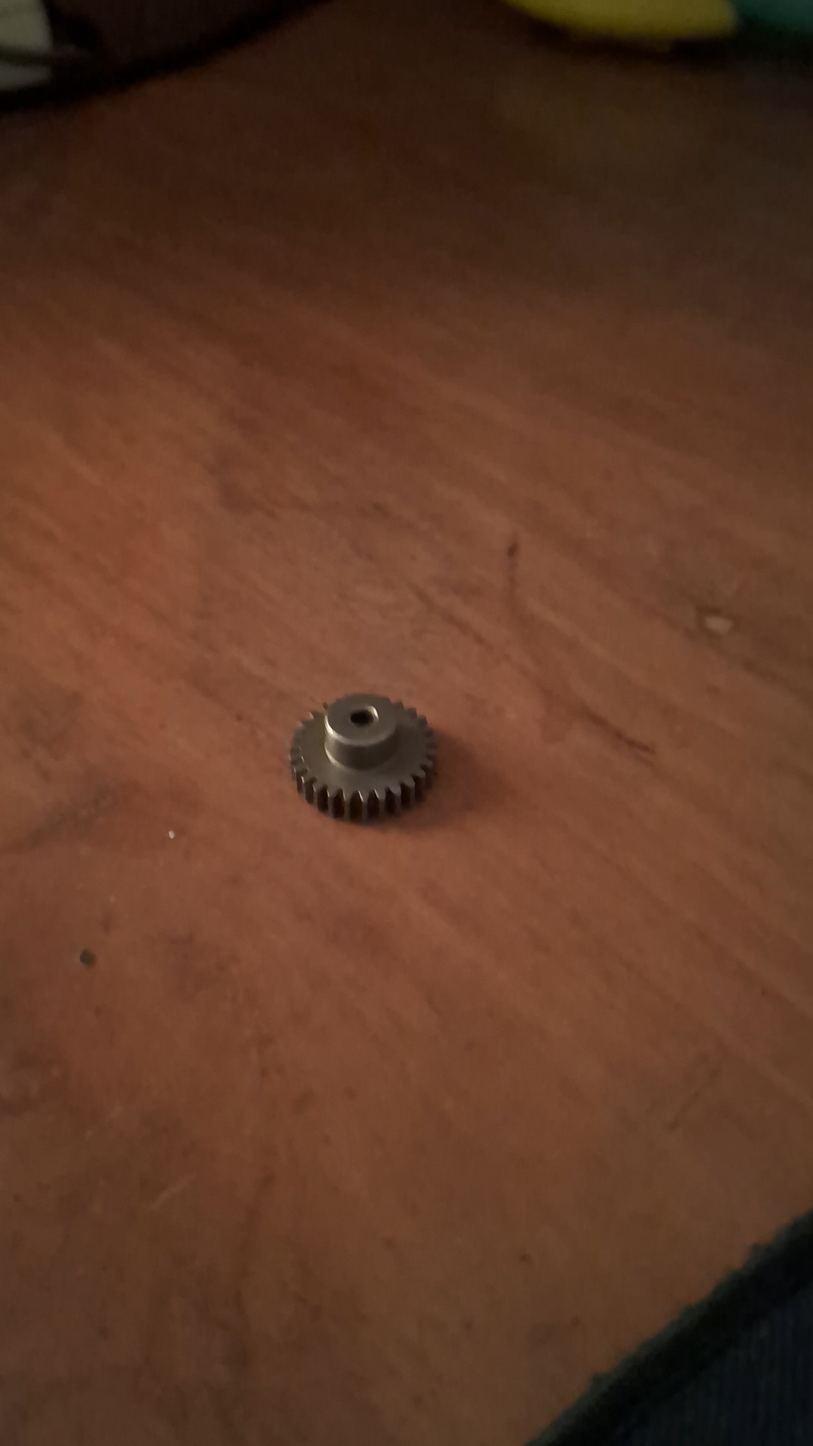spur gear: (290, 695, 435, 822)
